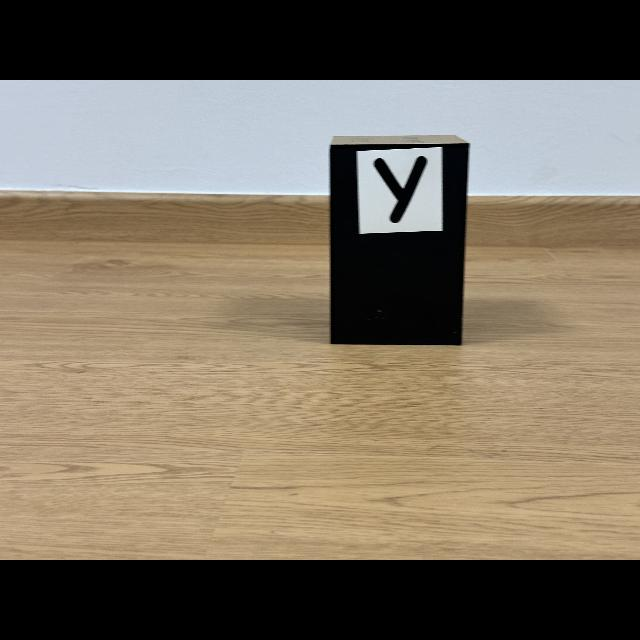Y: (374, 156, 428, 222)
